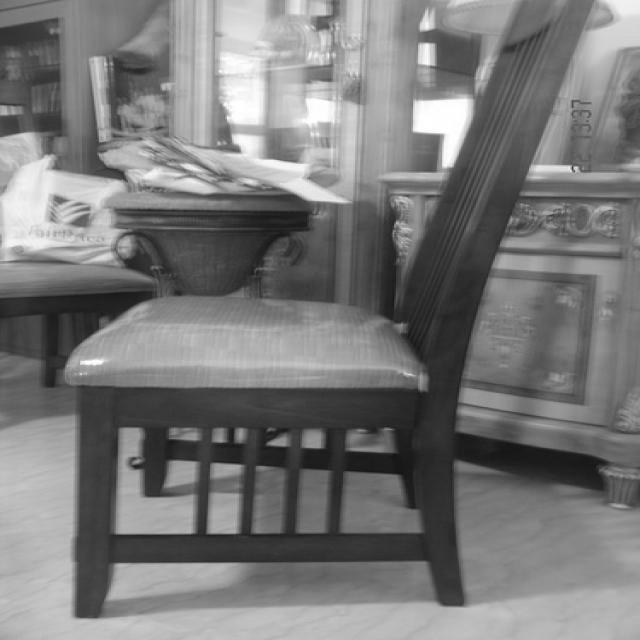chair: (65, 0, 593, 622)
